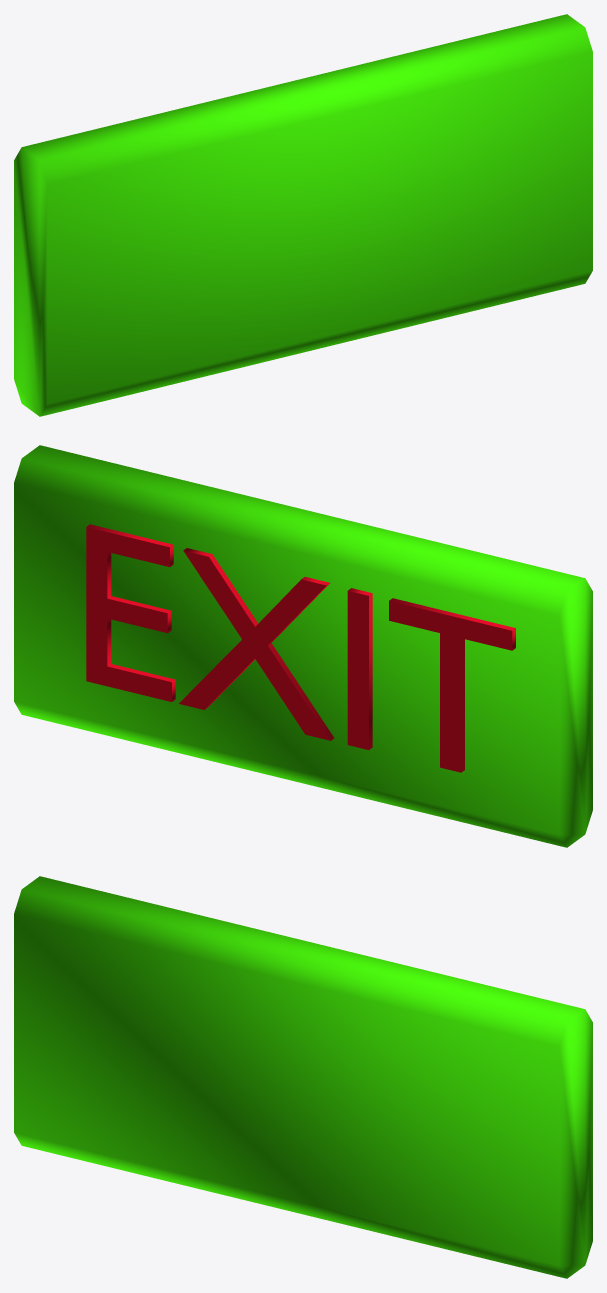
Rendered from Exit.fbx.
3 views of the same model, one above another, from view 1: azimuth 30°, elevation 25°; view 2: azimuth 150°, elevation 25°; view 3: azimuth 330°, elevation 25° (orthographic).
Parts seen in each view (by area): view 1: Cube; view 2: Cube, Text.001; view 3: Cube.
Boxes of the visible parts, <box> form: Cube: <box>14,14,592,416</box>; Cube: <box>14,445,592,847</box>; Text.001: <box>86,524,515,772</box>; Cube: <box>14,876,592,1278</box>.
Size of the model in its own units: 445 by 200 by 52.63.
